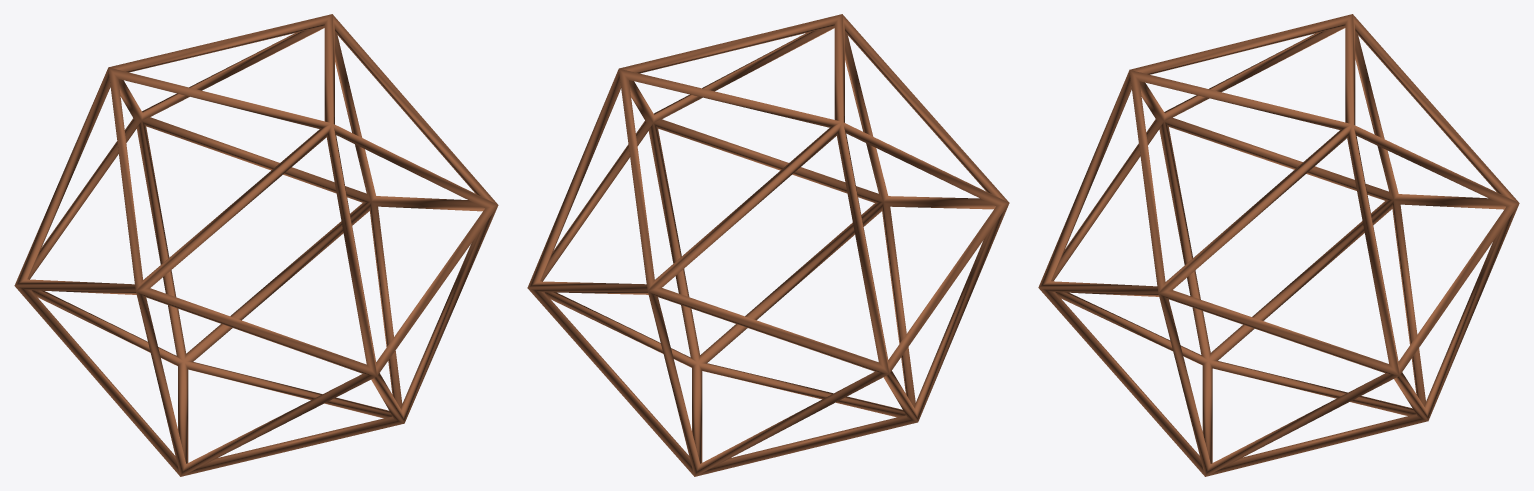
File: icosahedron.glb
3 views of the same model, side by side, from view 1: azimuth 30°, elevation 25°; view 2: azimuth 150°, elevation 25°; view 3: azimuth 270°, elevation 25° (orthographic).
Visible parts, largest first — view 1: Icosphere; view 2: Icosphere; view 3: Icosphere.
Part boxes in pixels (x1,y1,x2,y2): Icosphere: (14, 14, 498, 476); Icosphere: (527, 14, 1009, 476); Icosphere: (1038, 14, 1519, 476).
Size of the model in its own units: 0.1789 by 0.1677 by 0.2061.
